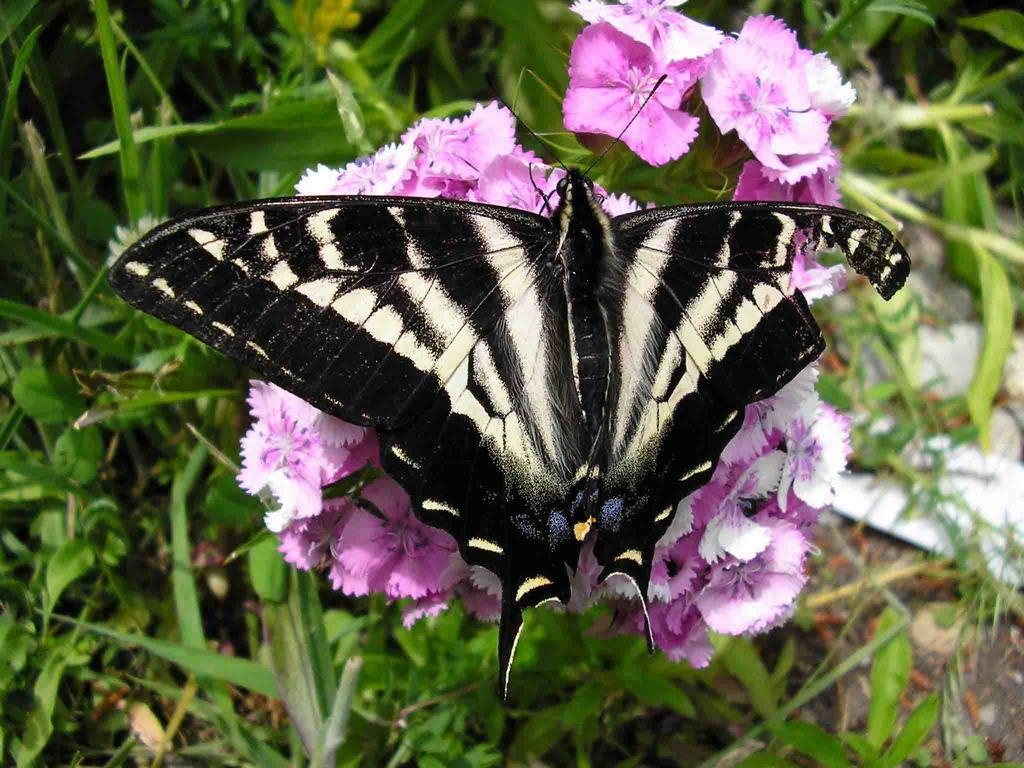Butterfly: (121, 154, 890, 660)
